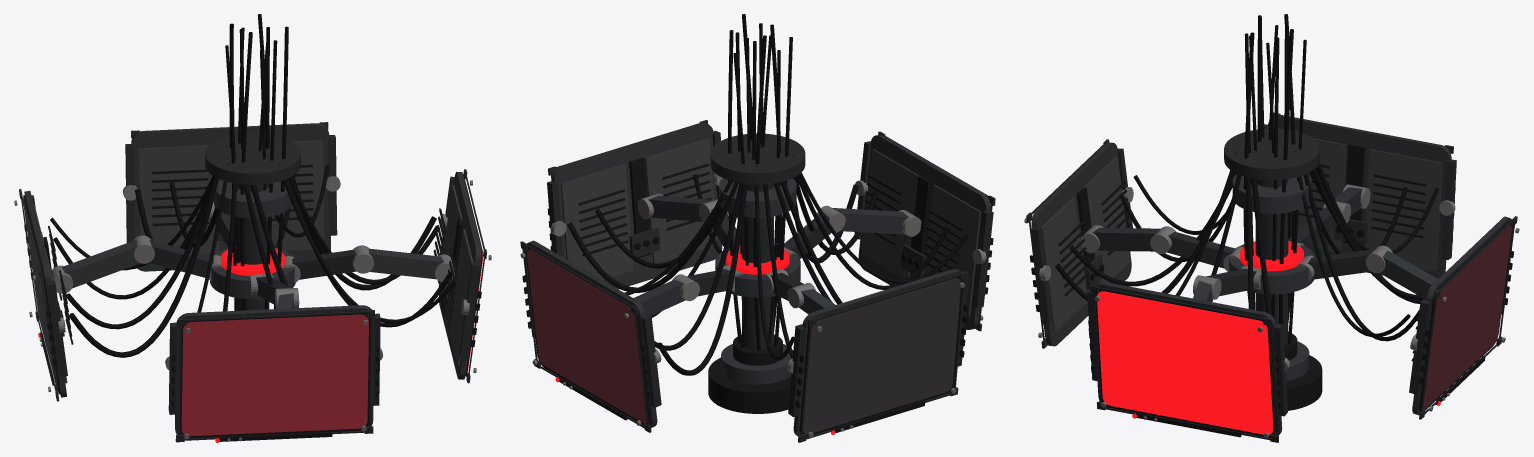
Rendered from cardstreamCarousel.glb.
The picture shows the model from 3 angles, left to right: view 1: azimuth 30°, elevation 25°; view 2: azimuth 150°, elevation 25°; view 3: azimuth 270°, elevation 25°; orthographic projection.
Parts seen in each view (by area): view 1: SCREEN_04_DISPLAY, SCREEN_02_REAR_PLATE_L, SCREEN_02_CHASSIS, CORE_CROWN, SCREEN_02_REAR_PLATE_R, SCREEN_04_CHASSIS, ARM_03_OUTER, SCREEN_03_CABLE_04, CORE_UPPER_ROTOR, SCREEN_01_CHASSIS, ARM_01_OUTER, SCREEN_01_REAR_PLATE_R (+38 smaller); view 2: SCREEN_03_DISPLAY, SCREEN_02_DISPLAY, SCREEN_01_REAR_PLATE_L, SCREEN_01_CHASSIS, SCREEN_01_REAR_PLATE_R, SCREEN_04_REAR_PLATE_L, CORE_CROWN, SCREEN_04_CHASSIS, SCREEN_04_REAR_PLATE_R, CORE_BASE, CORE_SHAFT, CORE_LOWER_ROTOR (+43 smaller); view 3: SCREEN_01_DISPLAY, SCREEN_02_DISPLAY, SCREEN_03_REAR_PLATE_R, SCREEN_03_CHASSIS, CORE_CROWN, SCREEN_04_REAR_PLATE_L, SCREEN_04_CHASSIS, SCREEN_04_REAR_PLATE_R, CORE_SHAFT, SCREEN_01_CHASSIS, SCREEN_03_REAR_PLATE_L, CORE_UPPER_ROTOR (+40 smaller).
Part boxes in pixels (x1,y1,x2,y2): SCREEN_04_DISPLAY: (181, 314, 368, 436); SCREEN_02_REAR_PLATE_L: (139, 145, 219, 254); SCREEN_02_CHASSIS: (131, 123, 330, 271); CORE_CROWN: (205, 133, 300, 184); SCREEN_02_REAR_PLATE_R: (271, 140, 324, 250); SCREEN_04_CHASSIS: (175, 305, 374, 438); ARM_03_OUTER: (62, 239, 140, 288); SCREEN_03_CABLE_04: (69, 176, 218, 357); CORE_UPPER_ROTOR: (213, 179, 291, 218); SCREEN_01_CHASSIS: (439, 171, 481, 379); ARM_01_OUTER: (369, 248, 443, 279); SCREEN_01_REAR_PLATE_R: (449, 229, 473, 365); SCREEN_03_DISPLAY: (803, 278, 960, 434); SCREEN_02_DISPLAY: (526, 249, 646, 423); SCREEN_01_REAR_PLATE_L: (561, 164, 633, 279); SCREEN_01_CHASSIS: (551, 122, 722, 289); SCREEN_01_REAR_PLATE_R: (645, 138, 717, 263); SCREEN_04_REAR_PLATE_L: (861, 149, 919, 279); CORE_CROWN: (710, 133, 805, 184); SCREEN_04_CHASSIS: (858, 134, 990, 329); SCREEN_04_REAR_PLATE_R: (924, 185, 981, 316); CORE_BASE: (708, 357, 791, 413); CORE_SHAFT: (742, 183, 773, 349); CORE_LOWER_ROTOR: (721, 344, 793, 384); SCREEN_01_DISPLAY: (1097, 291, 1273, 434); SCREEN_02_DISPLAY: (1423, 225, 1511, 409); SCREEN_03_REAR_PLATE_R: (1364, 149, 1442, 270); SCREEN_03_CHASSIS: (1267, 114, 1451, 278); CORE_CROWN: (1224, 128, 1319, 180); SCREEN_04_REAR_PLATE_L: (1041, 197, 1087, 332); SCREEN_04_CHASSIS: (1031, 142, 1131, 346); SCREEN_04_REAR_PLATE_R: (1084, 156, 1130, 285); CORE_SHAFT: (1255, 179, 1288, 344); SCREEN_01_CHASSIS: (1092, 282, 1282, 437); SCREEN_03_REAR_PLATE_L: (1297, 138, 1346, 251); CORE_UPPER_ROTOR: (1232, 174, 1311, 213).
Bounding box in the file's own units: 10.34 × 8.51 × 10.34.
